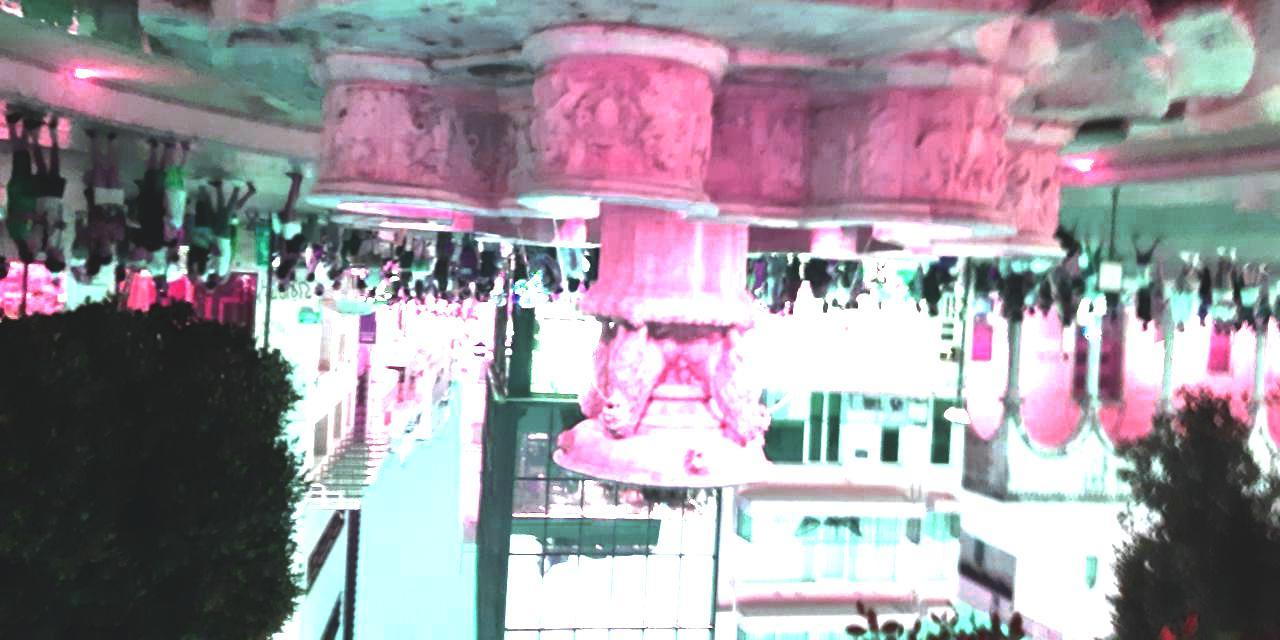Liontaria: (313, 31, 1060, 492)
